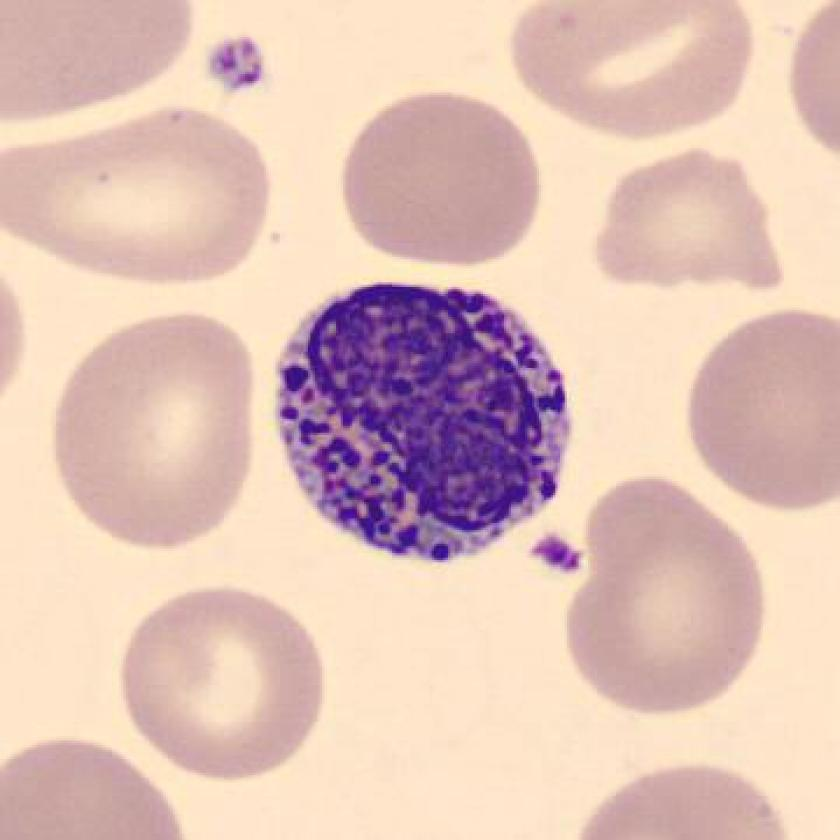basophil: (265, 274, 584, 580)
